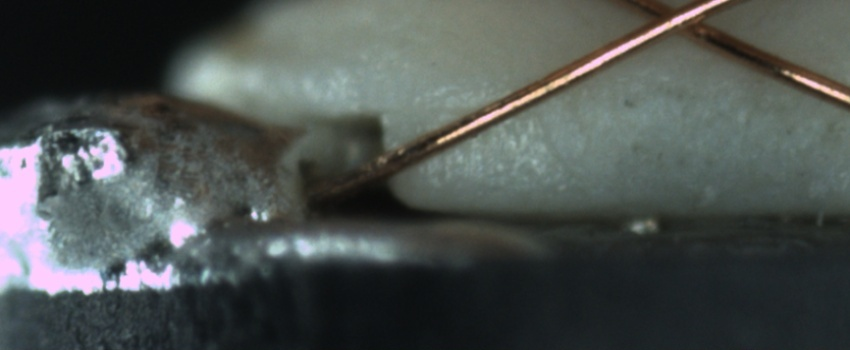CL: (621, 2, 731, 44)
